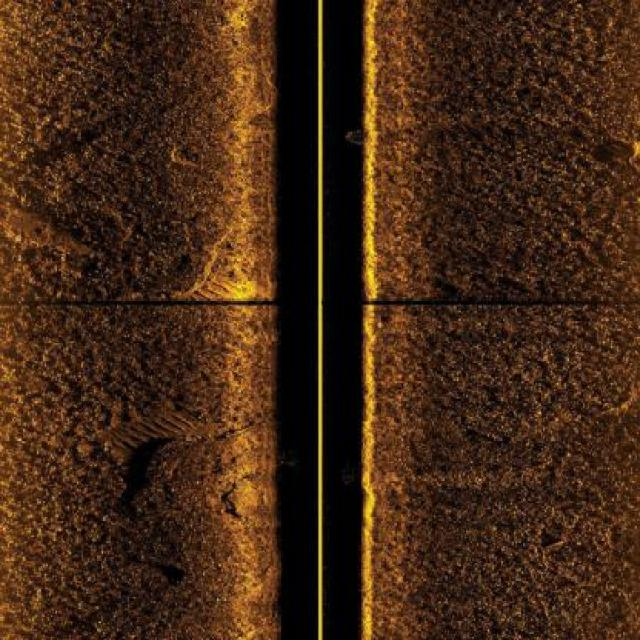mine: (536, 533, 570, 553)
